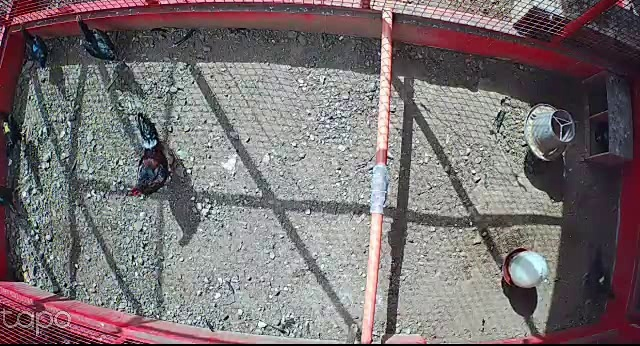Chicken: (73, 12, 122, 63), (20, 18, 51, 71), (1, 106, 29, 158)
Drinker: (502, 247, 550, 288)
Feeder: (524, 102, 580, 161)
Rooster: (131, 111, 181, 201)
Saddle_Color_Blue: (32, 42, 38, 51)
Saddle_Color_Yellow: (3, 121, 12, 135)
